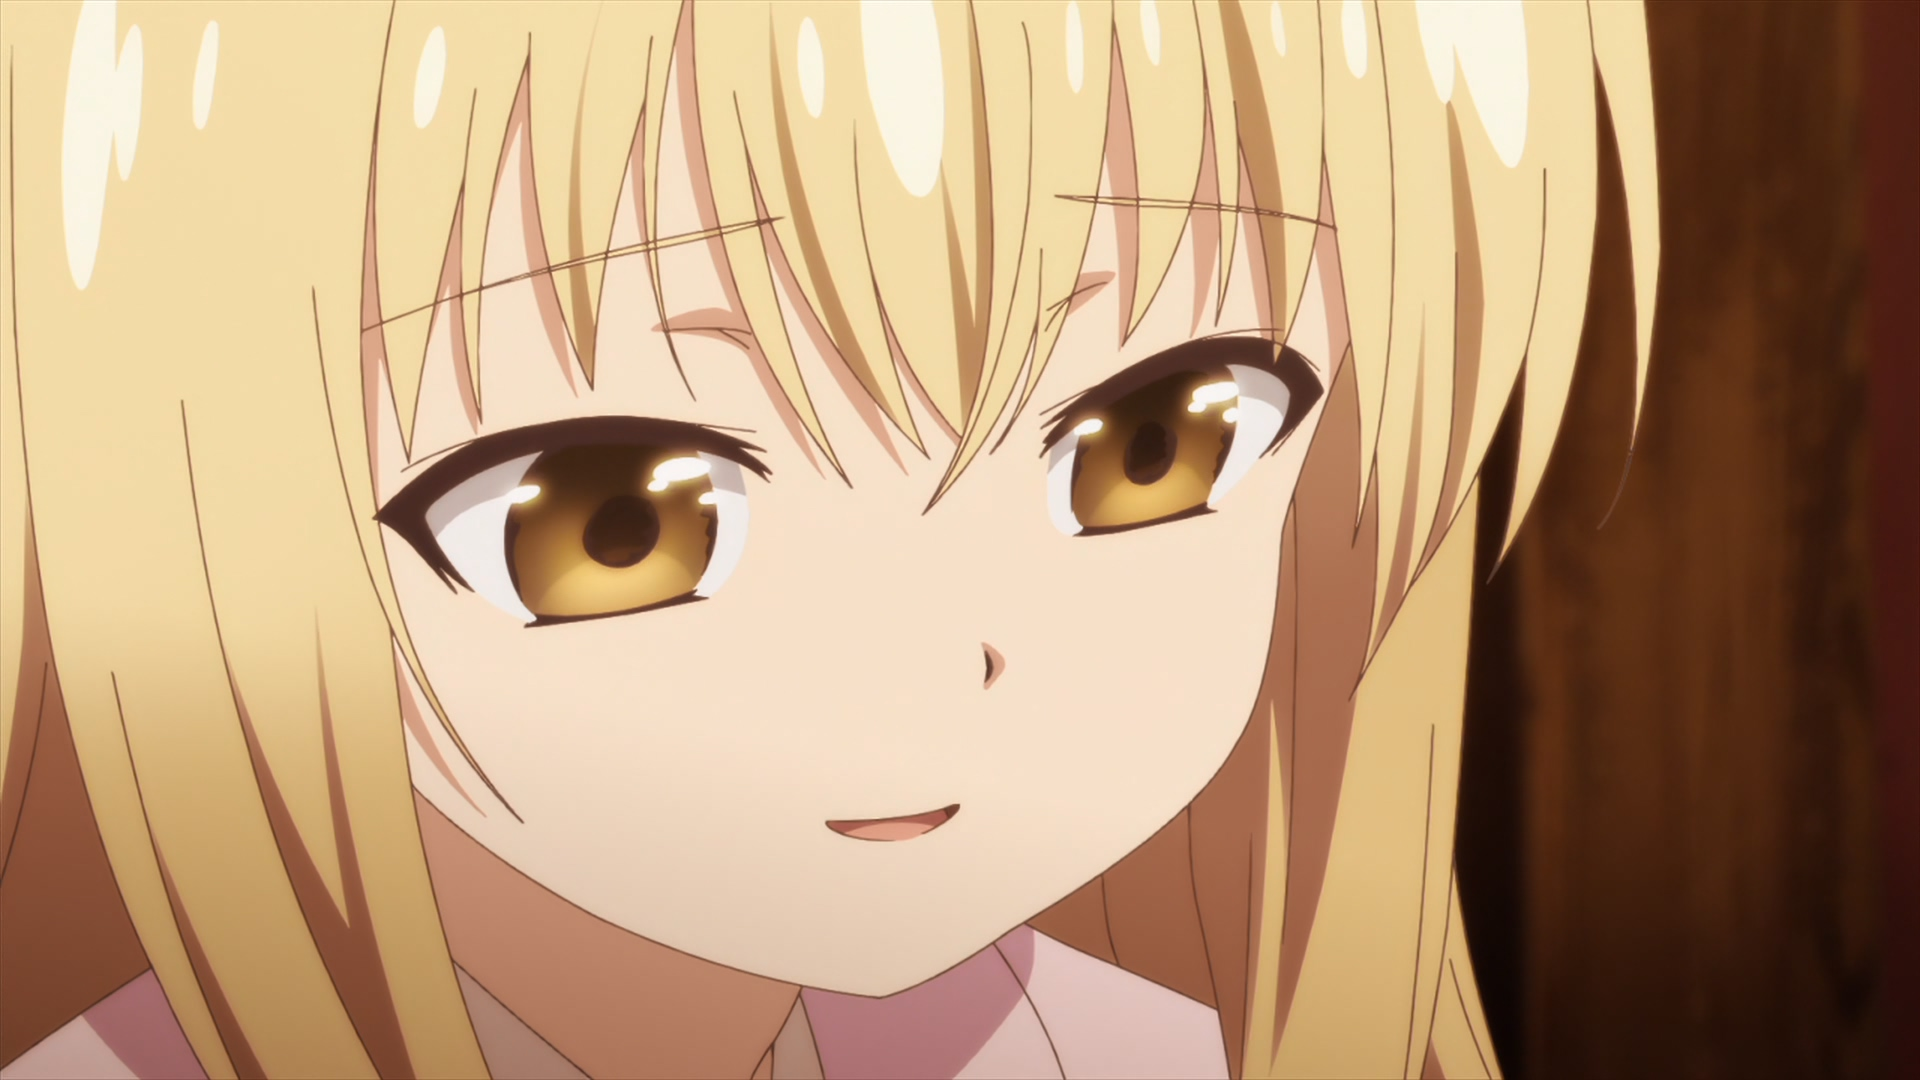柚: (1, 1, 1662, 1080)
